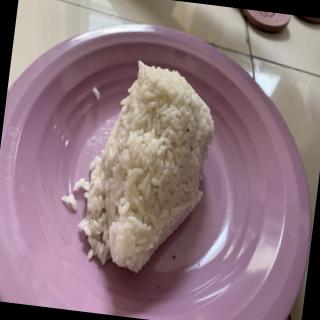Nasi: (83, 58, 222, 280)
